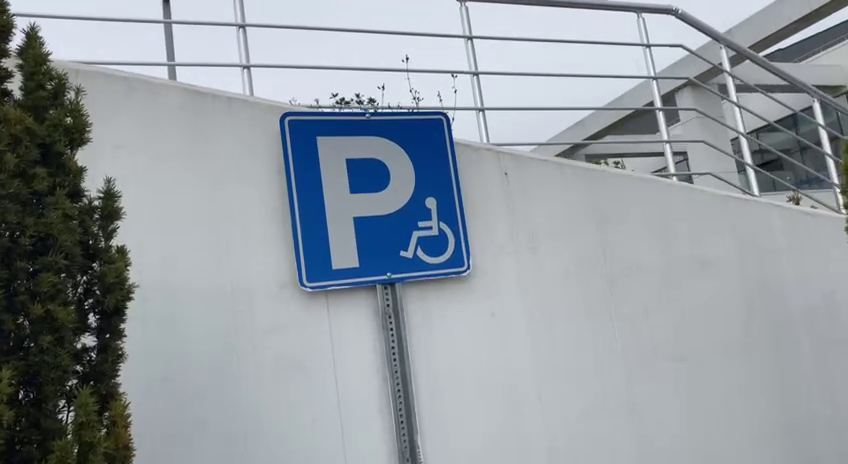parking: (278, 111, 476, 294)
